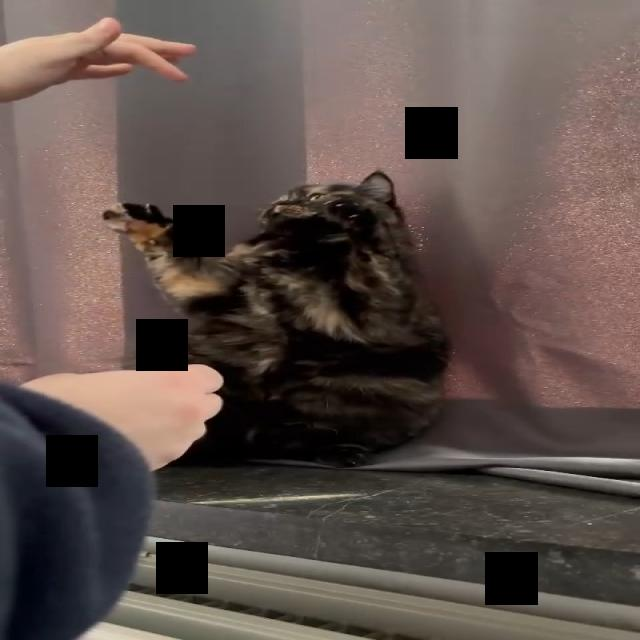authorized: (100, 169, 453, 468)
